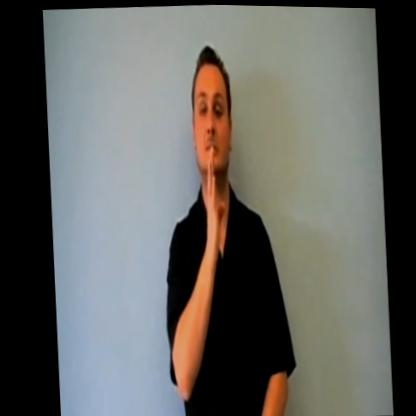Talk: (180, 22, 262, 295)
